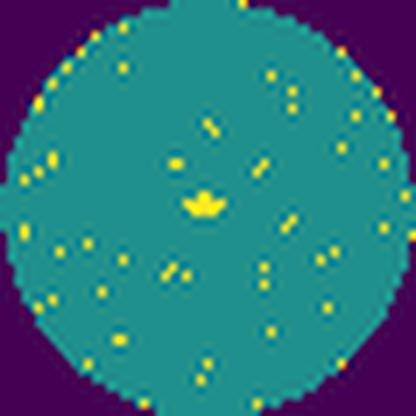Center: (183, 188, 228, 219)
